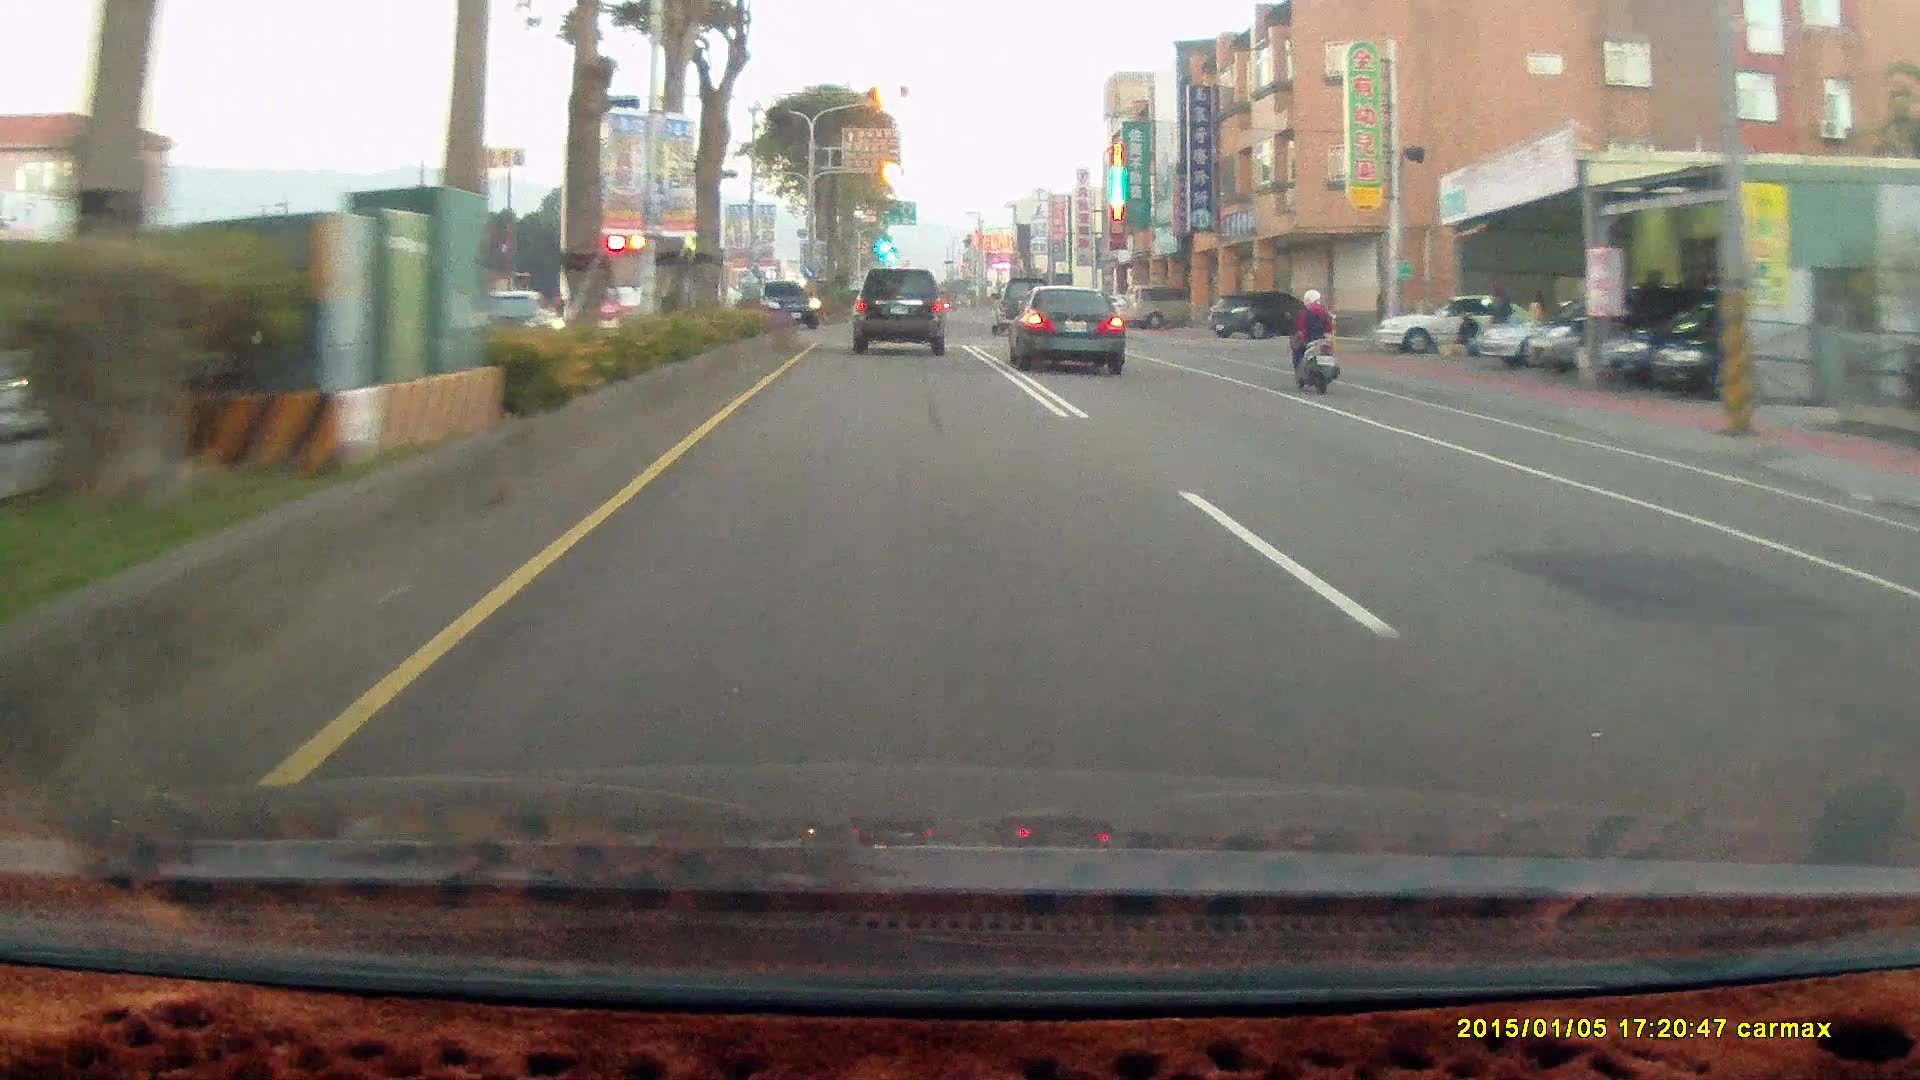pedestrian: (1487, 281, 1509, 350), (1454, 309, 1481, 357)
rider: (1275, 276, 1352, 404), (1282, 287, 1340, 394)
vehicle: (1658, 302, 1868, 402), (1597, 304, 1805, 392), (1525, 286, 1700, 372), (584, 231, 717, 338), (1369, 287, 1548, 360), (1478, 297, 1655, 369), (1018, 292, 1134, 388), (1004, 282, 1125, 372), (1375, 291, 1541, 353), (444, 287, 566, 363), (851, 273, 950, 364), (850, 268, 944, 354), (1211, 291, 1327, 347), (1204, 290, 1319, 339), (744, 280, 824, 333), (1121, 283, 1209, 330), (744, 278, 821, 329), (987, 279, 1052, 335)
